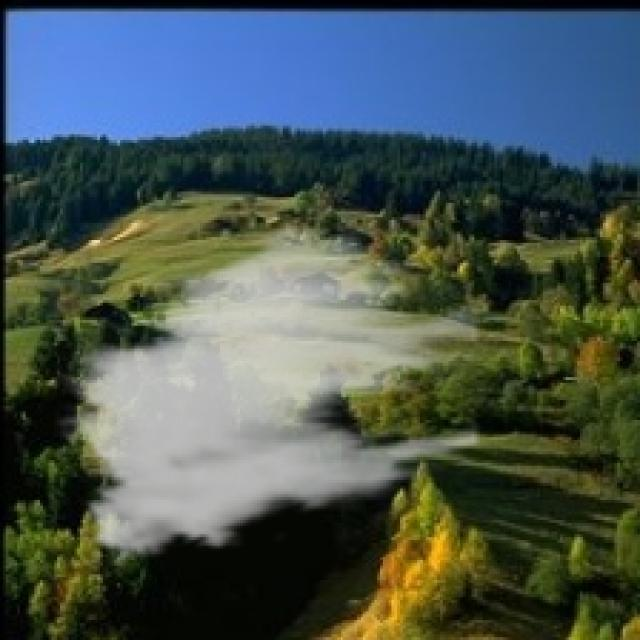Smoke: (54, 215, 480, 574)
